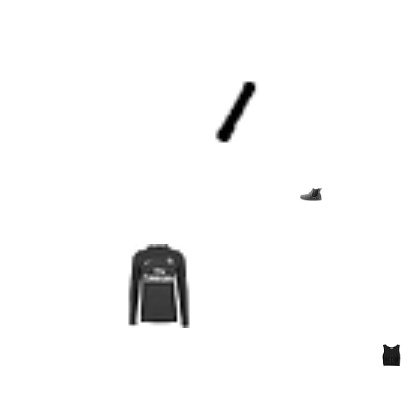1: (192, 70, 276, 154)
Ankle_boot: (300, 183, 322, 205)
Pullover: (117, 244, 201, 328)
T-shirt/top: (380, 344, 402, 366)
